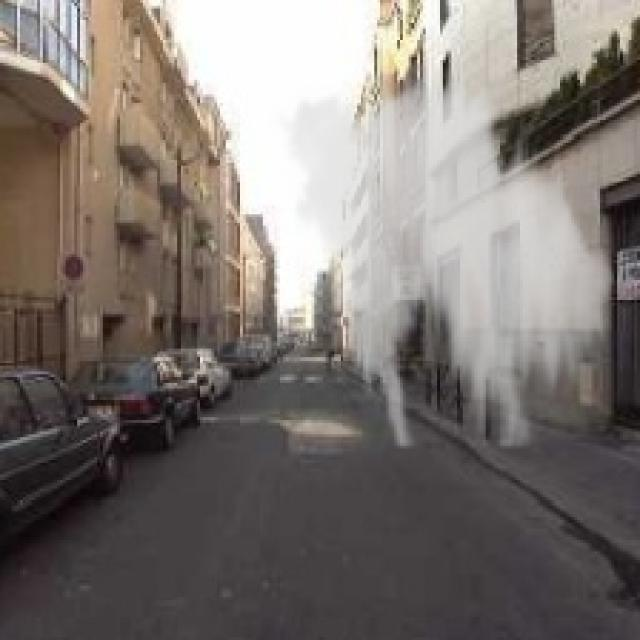Smoke: (268, 62, 626, 448)
